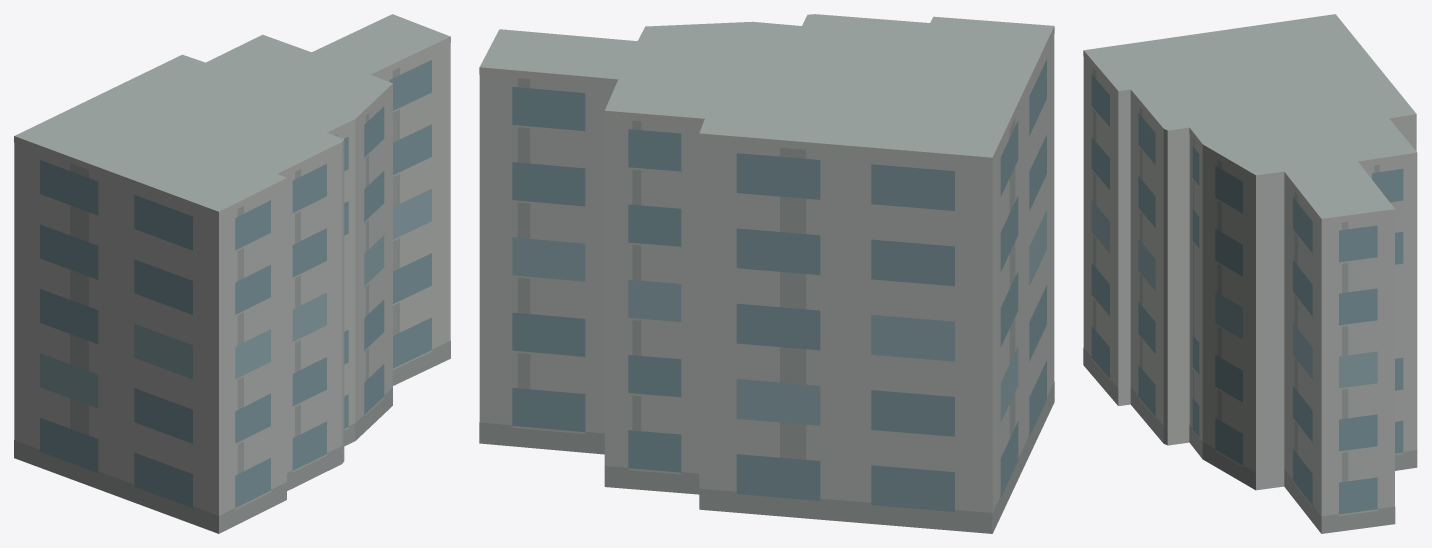
File: survey-upis-32526298.glb
The picture shows the model from 3 angles, left to right: view 1: azimuth 30°, elevation 25°; view 2: azimuth 150°, elevation 25°; view 3: azimuth 270°, elevation 25°; orthographic projection. The views are drawn at different scales.
Visible parts, largest first — view 1: survey-upis-32526298.tmp; view 2: survey-upis-32526298.tmp; view 3: survey-upis-32526298.tmp.
Part boxes in pixels (x1,y1,x2,y2): survey-upis-32526298.tmp: (14,14,450,533); survey-upis-32526298.tmp: (479,14,1054,533); survey-upis-32526298.tmp: (1083,14,1417,533).
Bounding box in the file's own units: 16.75 × 12 × 11.54.
